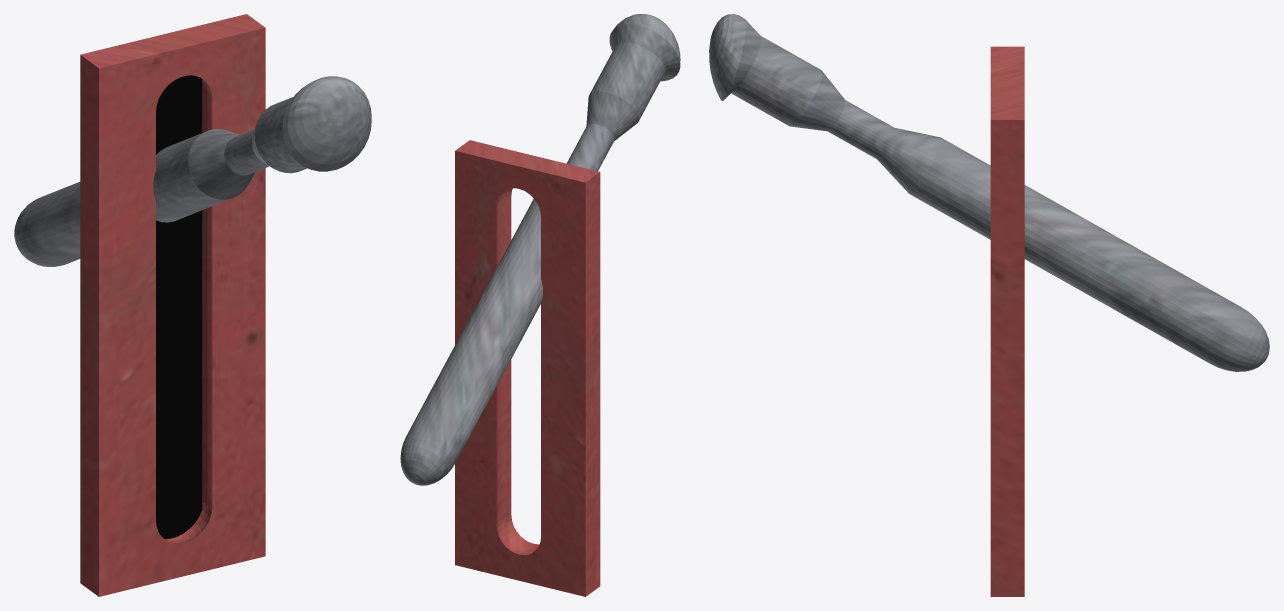
The model's file is handle_up.glb.
The picture shows the model from 3 angles, left to right: view 1: azimuth 30°, elevation 25°; view 2: azimuth 150°, elevation 25°; view 3: azimuth 270°, elevation 25°; orthographic projection. The views are drawn at different scales.
Parts seen in each view (by area): view 1: Cube.001, Cube.002, Cube.003; view 2: Cube.001, Cube.002; view 3: Cube.002, Cube.001.
Boxes of the visible parts, x1,y1,x2,y2 form: Cube.001: [80, 14, 265, 596]; Cube.002: [14, 76, 371, 266]; Cube.003: [156, 75, 202, 539]; Cube.001: [455, 140, 600, 596]; Cube.002: [400, 14, 680, 485]; Cube.002: [709, 14, 1269, 371]; Cube.001: [990, 46, 1024, 596].
Bounding box in the file's own units: 0.6598 × 2.28 × 2.13.
3 materials, 2 textured.
